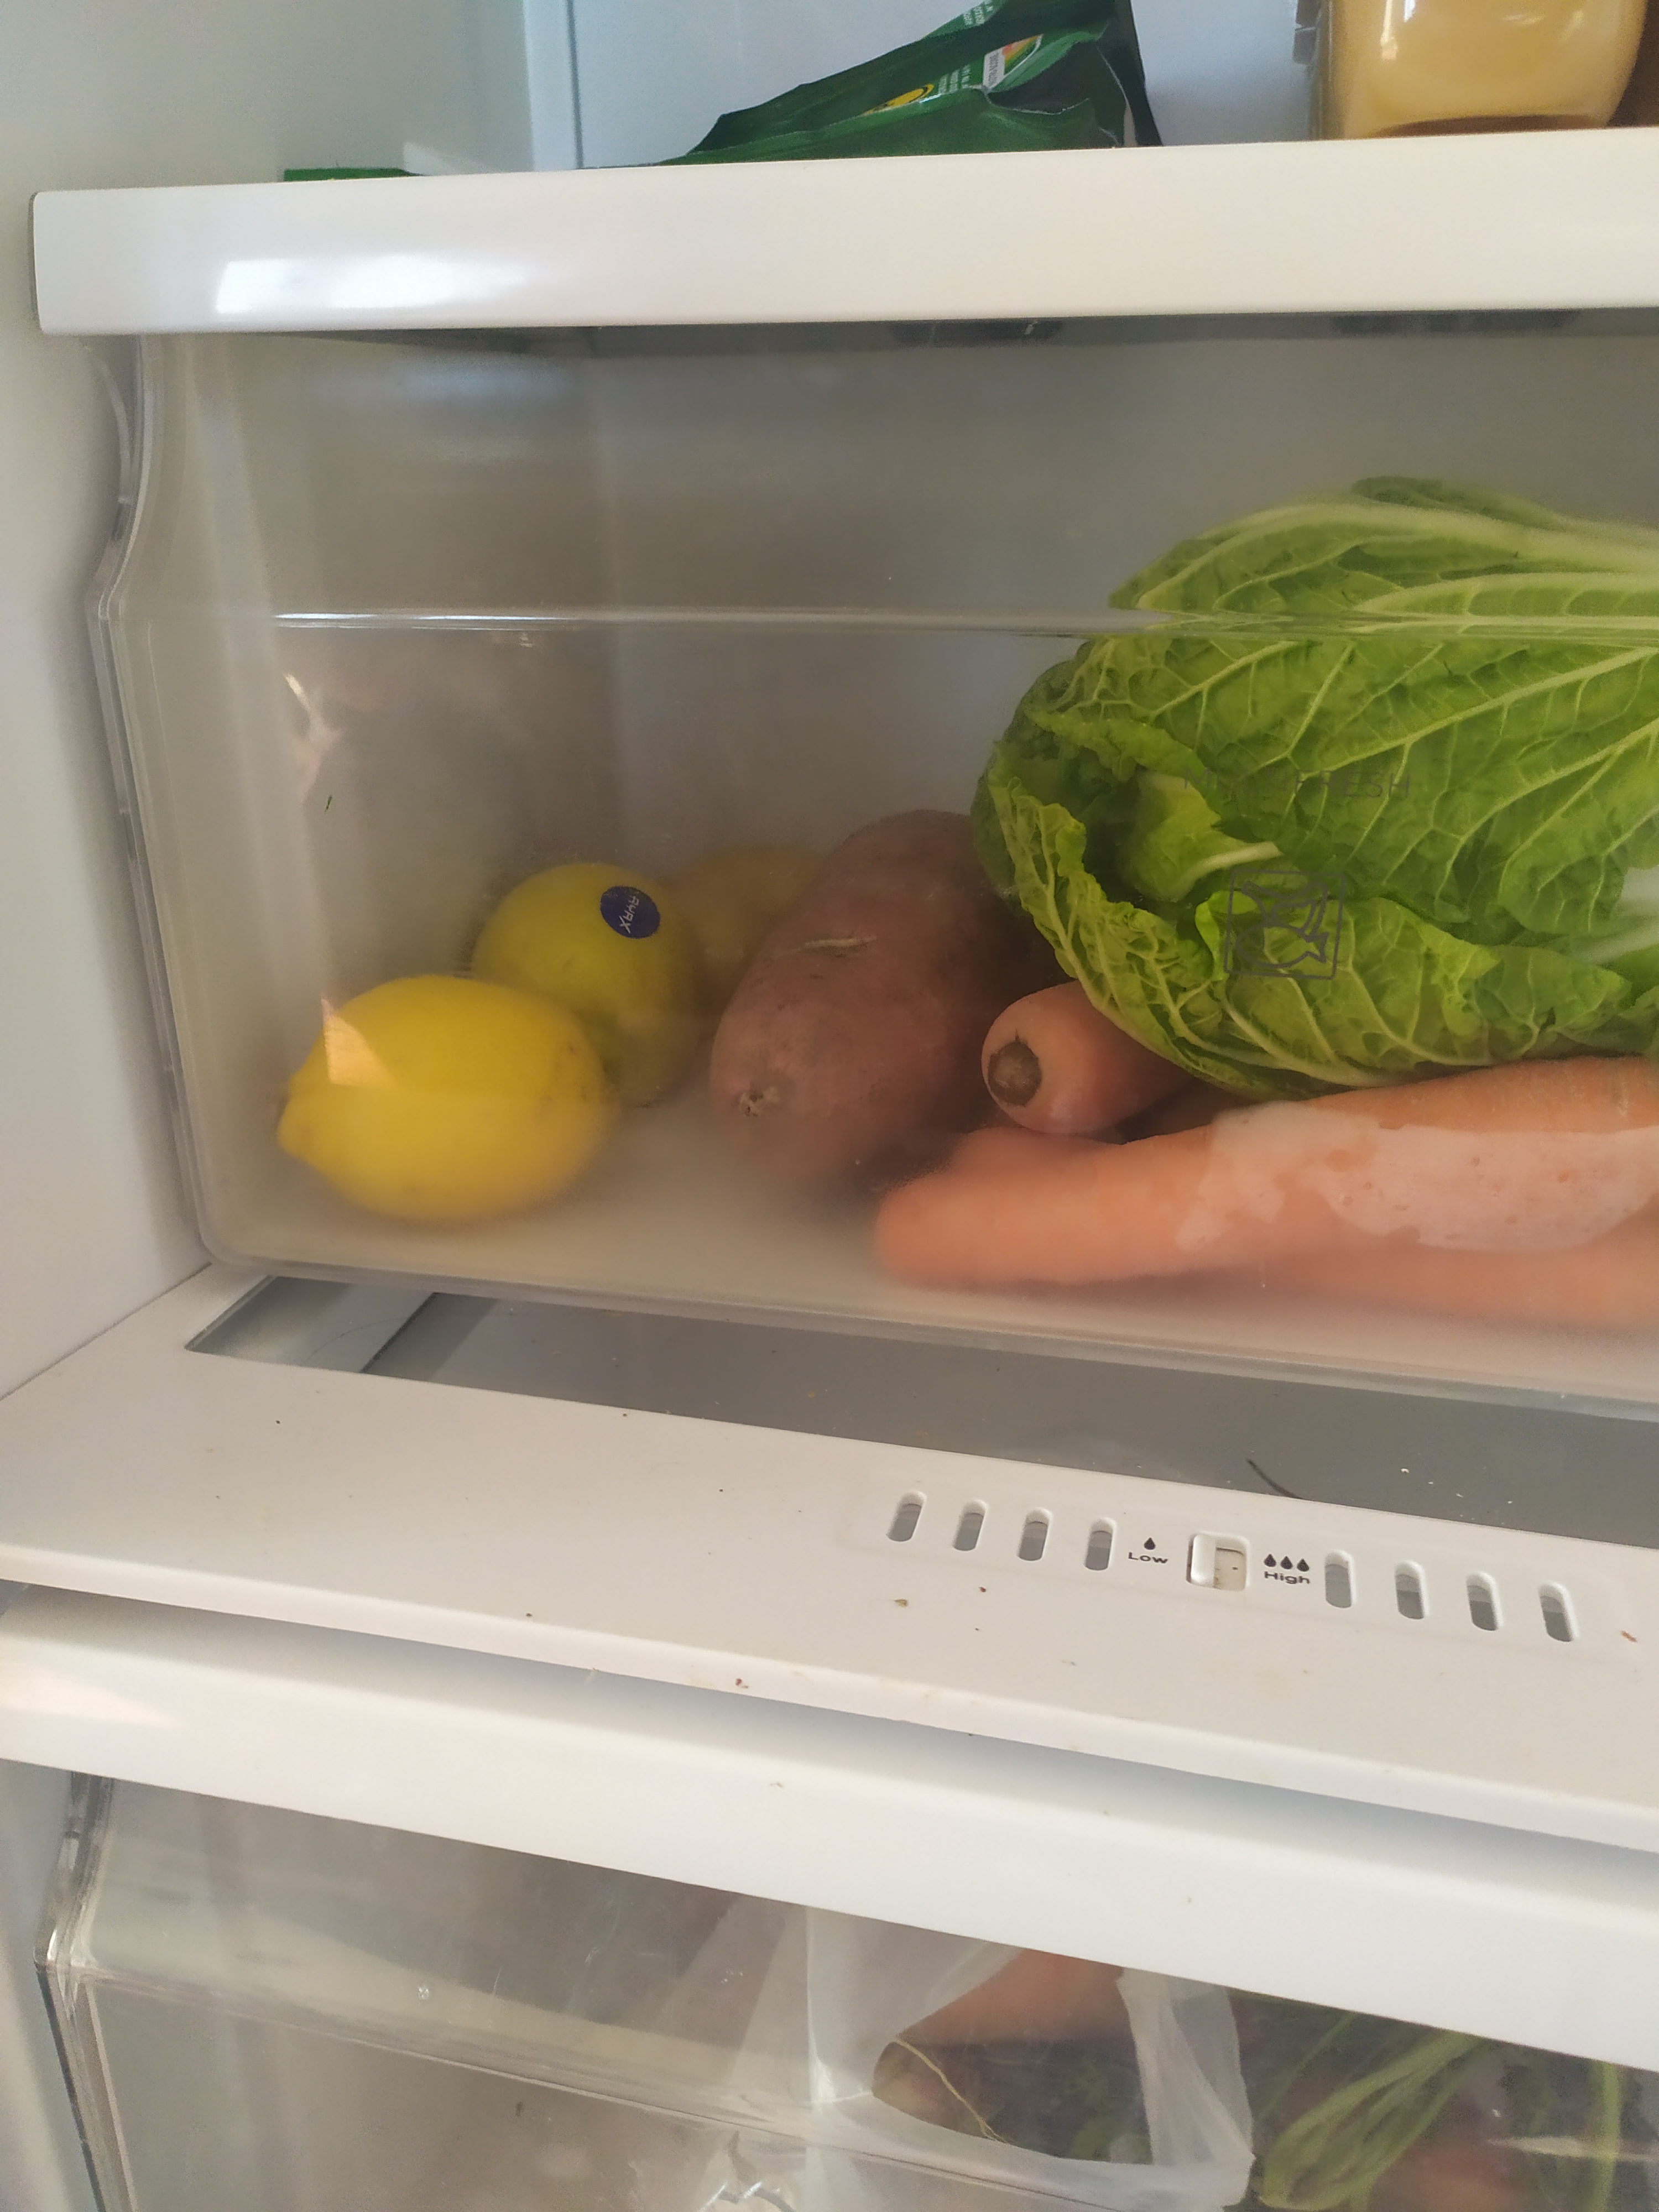carrot: (882, 1064, 1659, 1284), (971, 968, 1220, 1136), (1255, 1216, 1659, 1315)
compote: (1309, 0, 1649, 158)
lemon: (275, 963, 617, 1221), (444, 862, 706, 1083)
